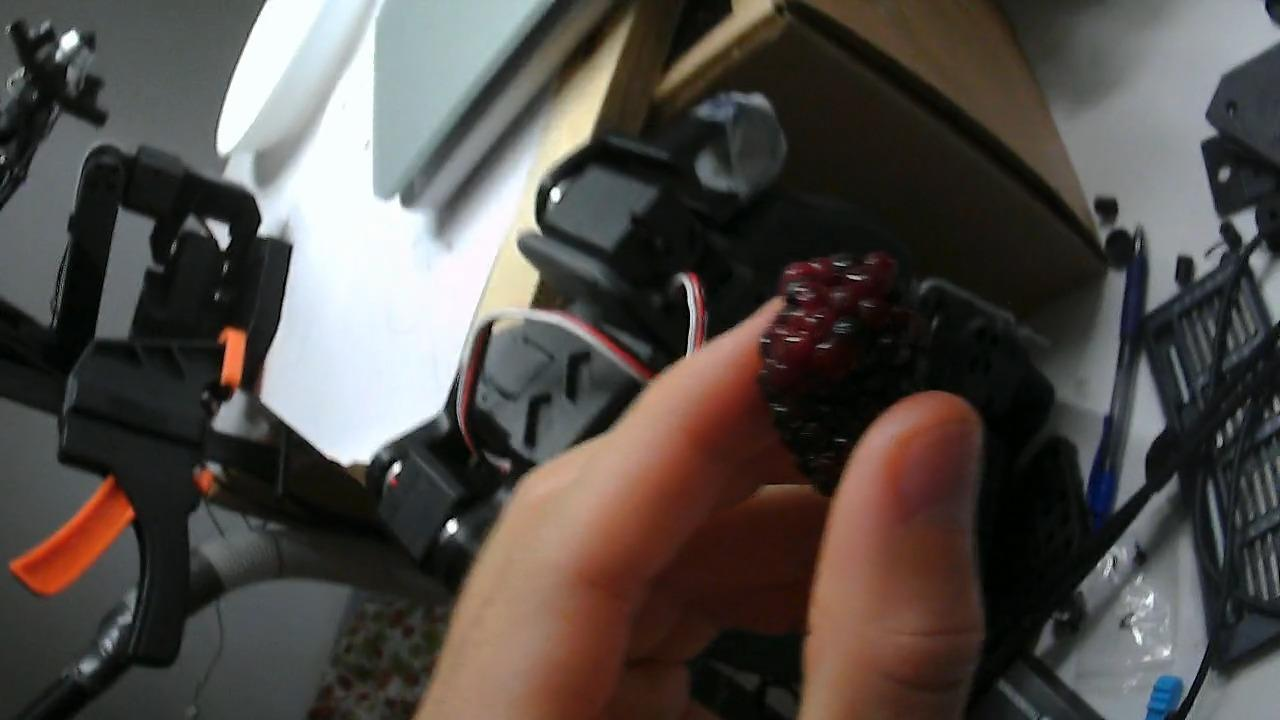berry: (760, 254, 929, 495)
red drouplet: (761, 319, 810, 368), (779, 301, 833, 342), (780, 261, 823, 291), (844, 265, 882, 297), (785, 278, 816, 309), (800, 257, 833, 283)
